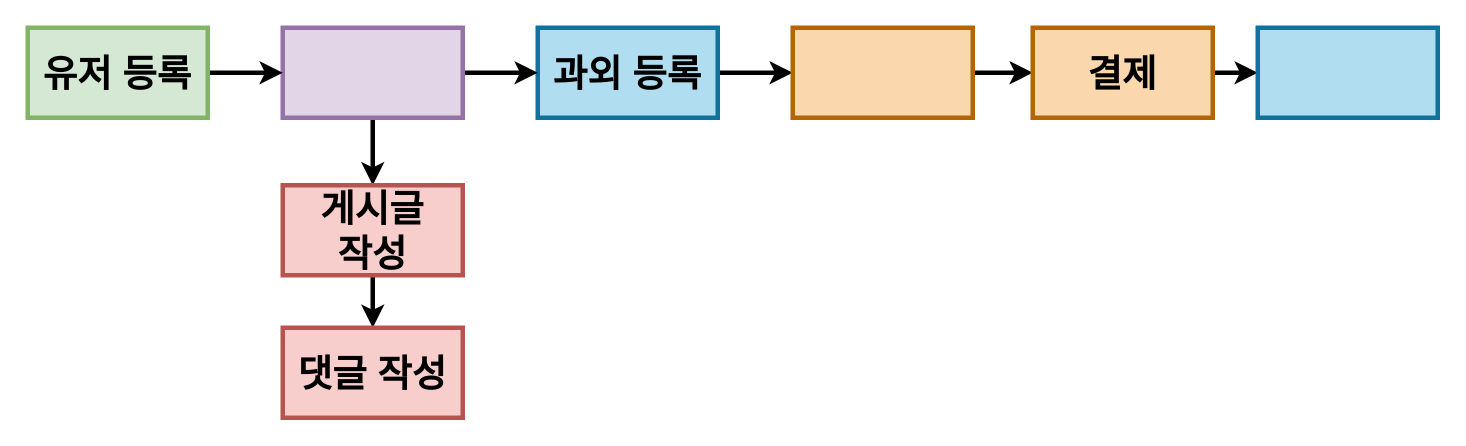
The diagram is 1466 pixels wide and 446 high, and some of its shapes have lost their labels. Each missing label, with the centre of its shape:
"게임 등록" goes at (372,72).
"리뷰 작성" goes at (1347,72).
"주문" goes at (882,72).
